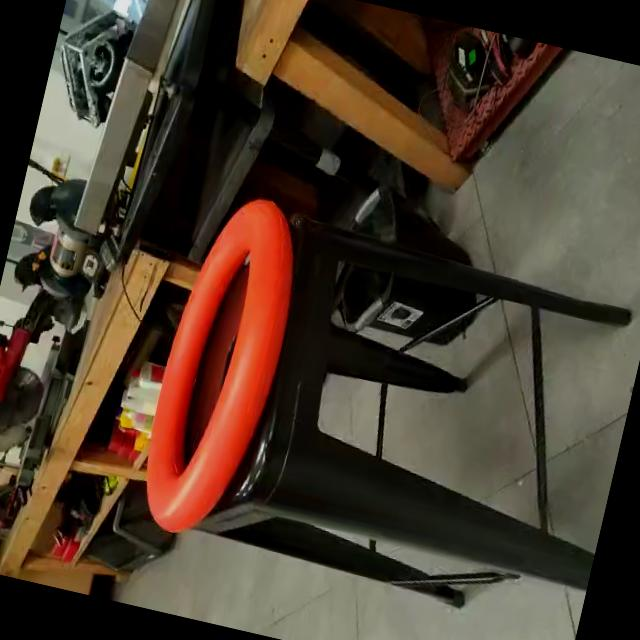note: (126, 176, 322, 554)
